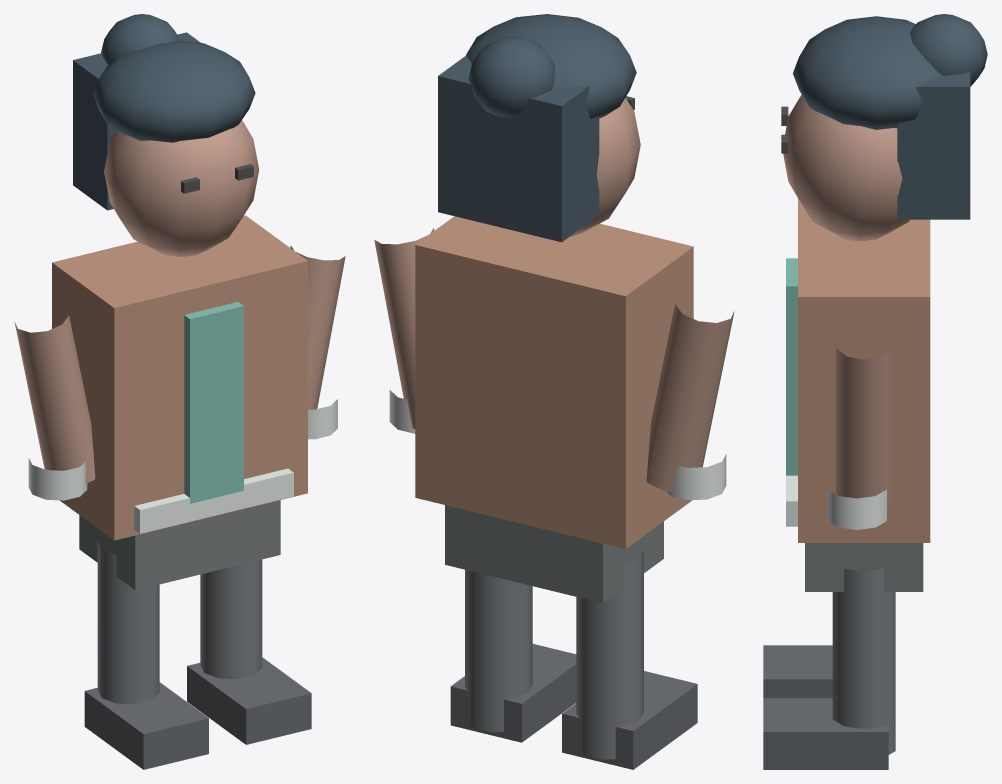
Rendered from nyra-quell.glb.
3 renders of one model, left to right at view 1: azimuth 30°, elevation 25°; view 2: azimuth 150°, elevation 25°; view 3: azimuth 270°, elevation 25°, orthographic. The views are drawn at different scales.
Visible parts, largest first — view 1: Torso, Head, HairCap, Vest, Pelvis, ArmL, LegL, FootL, FootR, LegR, HairBack, Belt (+4 smaller); view 2: Torso, HairBack, Pelvis, LegL, ArmL, LegR, HairCap, FootL, FootR, HairTie, ArmR, Head (+2 smaller); view 3: Torso, Head, HairCap, LegR, HairBack, ArmR, FootR, Pelvis, FootL, HairTie, Vest, CuffR (+1 smaller).
Part boxes in pixels (<box>): Torso: <box>52,215,307,540</box>; Head: <box>104,120,259,256</box>; HairCap: <box>93,41,255,142</box>; Vest: <box>184,302,243,503</box>; Pelvis: <box>79,500,280,590</box>; ArmL: <box>14,316,95,483</box>; LegL: <box>97,541,159,704</box>; FootL: <box>84,682,208,769</box>; FootR: <box>187,657,311,744</box>; LegR: <box>200,559,262,679</box>; HairBack: <box>73,32,200,210</box>; Belt: <box>134,468,293,533</box>; Torso: <box>415,216,693,548</box>; HairBack: <box>438,55,599,242</box>; Pelvis: <box>445,505,663,603</box>; LegL: <box>576,550,643,759</box>; ArmL: <box>646,304,734,491</box>; LegR: <box>465,569,532,732</box>; HairCap: <box>466,14,636,118</box>; FootL: <box>562,671,697,769</box>; FootR: <box>450,644,576,742</box>; HairTie: <box>468,36,554,117</box>; ArmR: <box>374,228,434,429</box>; Head: <box>570,97,640,236</box>; Torso: <box>798,198,930,542</box>; Head: <box>783,94,909,241</box>; HairCap: <box>793,16,941,129</box>; LegR: <box>832,568,895,754</box>; HairBack: <box>897,71,970,219</box>; ArmR: <box>836,348,892,508</box>; FootR: <box>763,698,888,769</box>; Pelvis: <box>805,543,923,591</box>; FootL: <box>763,645,832,698</box>; HairTie: <box>910,14,987,86</box>; Vest: <box>786,258,797,475</box>; CuffR: <box>827,489,886,529</box>.
Bounding box in the file's own units: 1.14 × 2.25 × 0.645.
